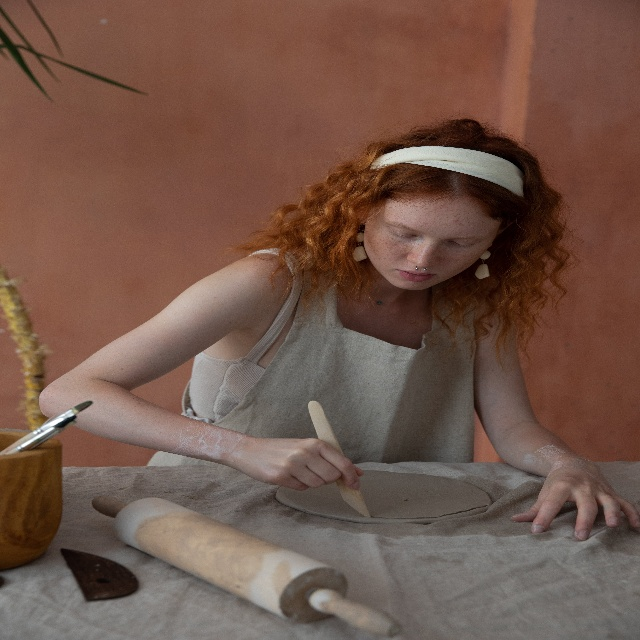Sin_guantes: (510, 451, 640, 542), (234, 433, 365, 491)
